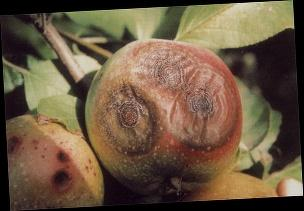rotten apple: (85, 39, 242, 197), (8, 110, 103, 209)
